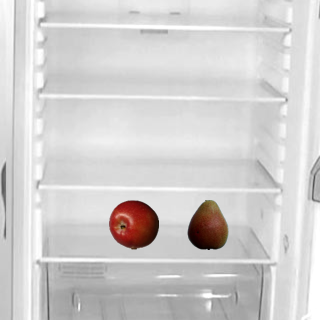Apple Braeburn: (108, 199, 158, 249)
Pear Forelle: (182, 199, 232, 249)
